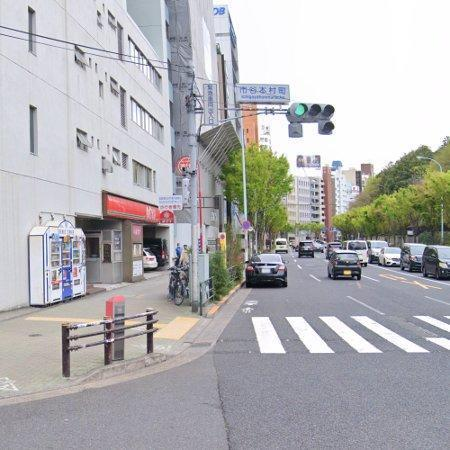crosswalk: (252, 316, 450, 354)
